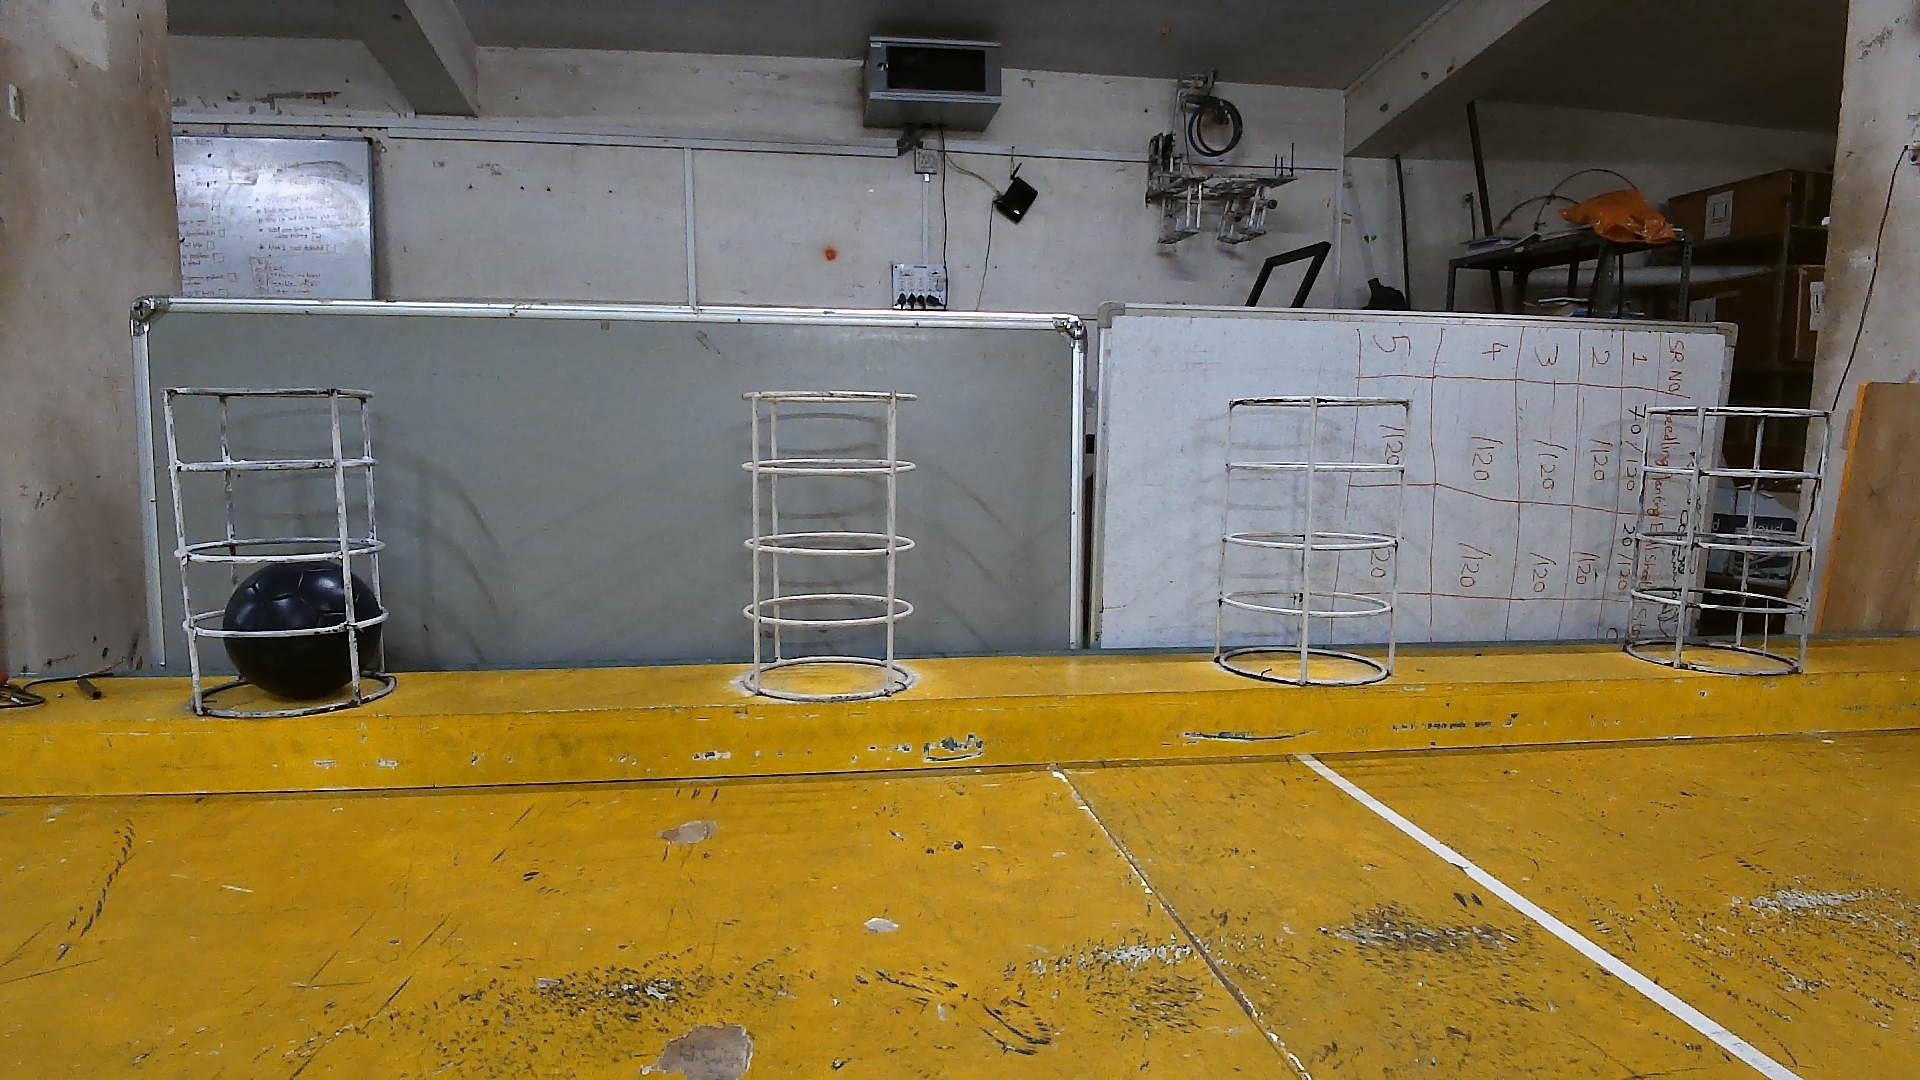dhoka: (222, 563, 382, 702)
